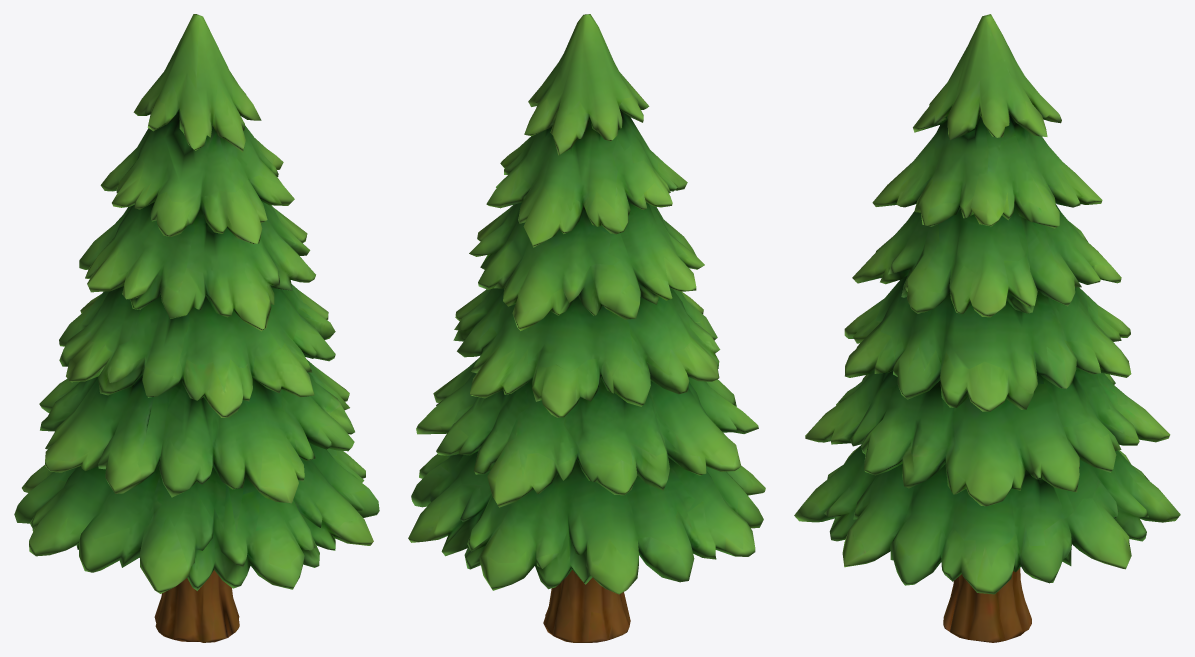
Rendered from pine.glb.
The picture shows the model from 3 angles, left to right: view 1: azimuth 30°, elevation 25°; view 2: azimuth 150°, elevation 25°; view 3: azimuth 270°, elevation 25°; orthographic projection.
Parts seen in each view (by area): view 1: pine-node; view 2: pine-node; view 3: pine-node.
Boxes of the visible parts, x1,y1,x2,y2 form: pine-node: (14, 14, 379, 642); pine-node: (408, 14, 765, 642); pine-node: (794, 14, 1180, 642).
Size of the model in its own units: 0.5655 by 1 by 0.5742.
Materials: 1 (1 with a texture image).
